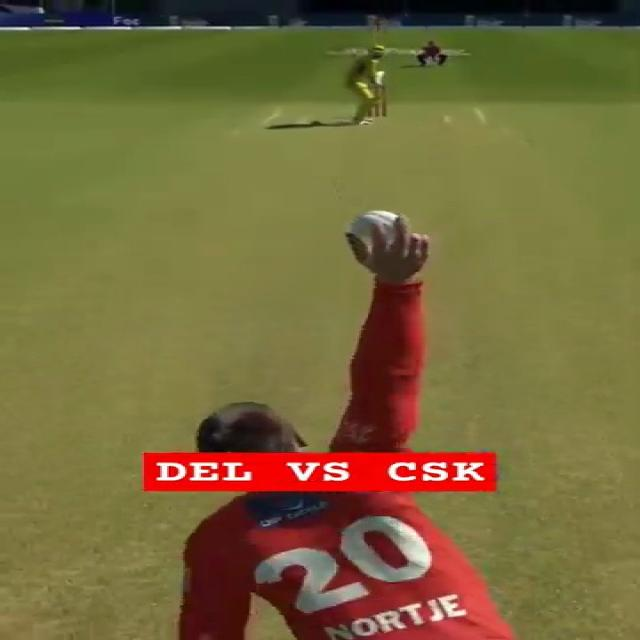ball: (345, 210, 407, 243)
